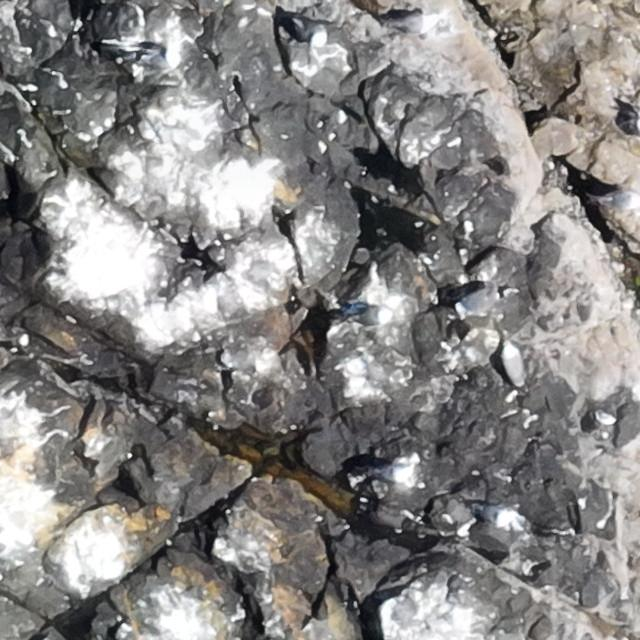umineko: (454, 286, 497, 318), (288, 19, 328, 46), (474, 505, 517, 528), (371, 464, 417, 484), (594, 188, 638, 208), (350, 306, 388, 324), (502, 345, 520, 382)
